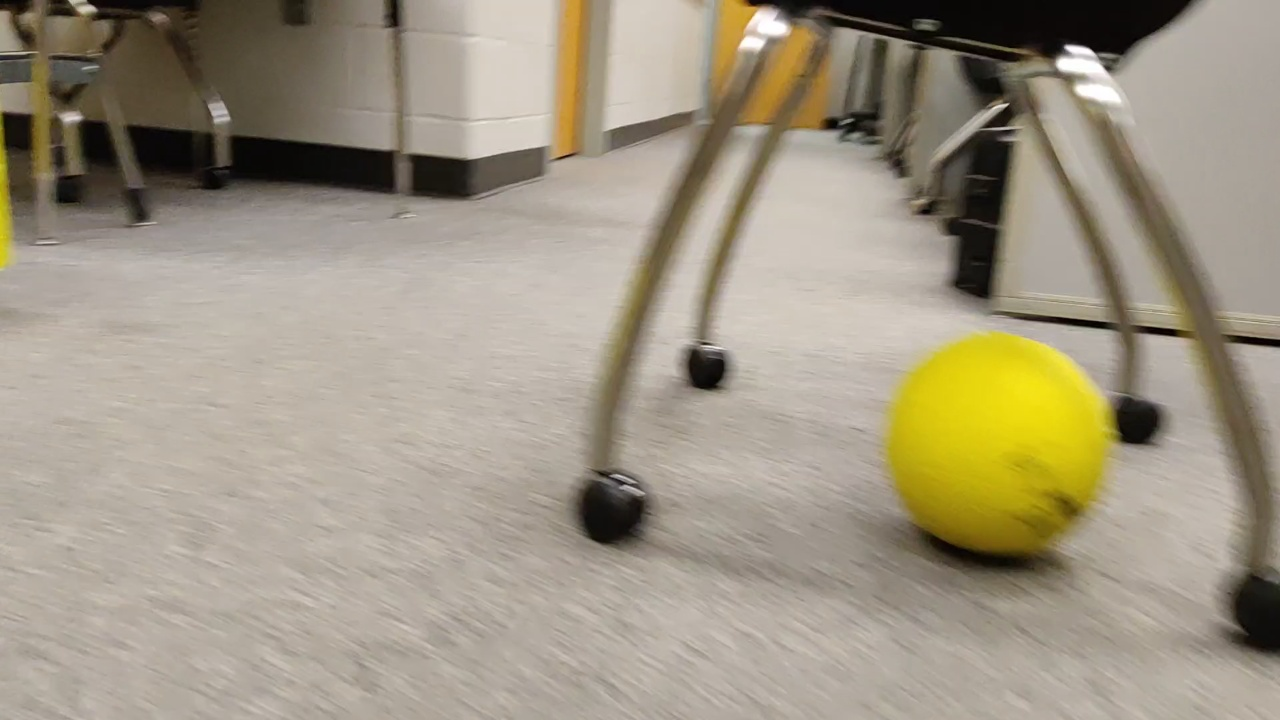Ball: (883, 332, 1114, 577)
